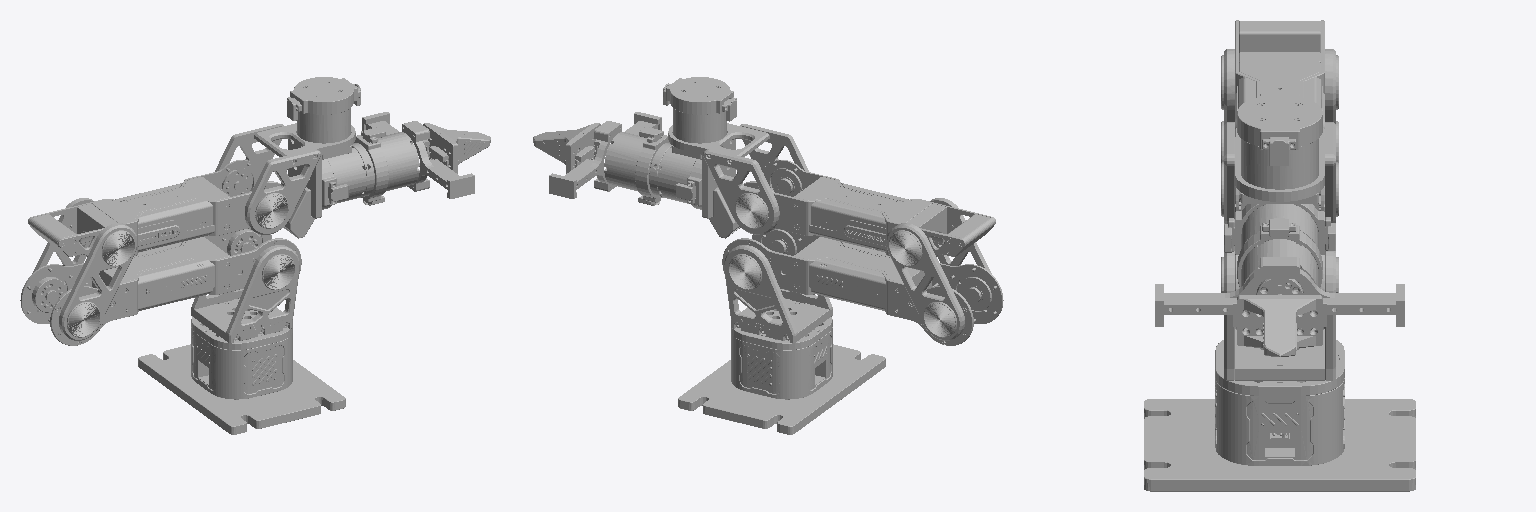
robot.urdf — b601_rs:
<?xml version="1.0" encoding="utf-8"?>
<!-- This URDF was automatically created by SolidWorks to URDF Exporter! Originally created by Stephen Brawner (brawner@gmail.com) 
     Commit Version: 1.6.0-4-g7f85cfe  Build Version: 1.6.7995.38578
     For more information, please see http://wiki.ros.org/sw_urdf_exporter -->
<robot
  name="b601_rs">
  <link
    name="base_link">
    <inertial>
      <origin
        xyz="2.87641888266442E-06 -0.000122302488725115 0.0243376121934547"
        rpy="0 0 0" />
      <mass
        value="1.1774" />
      <inertia
        ixx="0.00133040"
        ixy="0.00000001"
        ixz="0.00000000"
        iyy="0.00213119"
        iyz="0.00000000"
        izz="0.00275877" />
    </inertial>
    <visual>
      <origin
        xyz="0 0 0"
        rpy="0 0 0" />
      <geometry>
        <mesh
          filename="assets/base_link.STL" />
      </geometry>
      <material
        name="">
        <color
          rgba="0.752941176470588 0.752941176470588 0.752941176470588 1" />
      </material>
    </visual>
    <collision>
      <origin
        xyz="0 0 0"
        rpy="0 0 0" />
      <geometry>
        <mesh
          filename="assets/base_link.STL" />
      </geometry>
    </collision>
  </link>
  <link
    name="link1">
    <inertial>
      <origin
        xyz="0.00817652280320541 0.00122584211922395 0.0331419658967293"
        rpy="0 0 0" />
      <mass
        value="0.4655" />
      <inertia
        ixx="0.00025207"
        ixy="0.00000000"
        ixz="-0.00002832"
        iyy="0.00015464"
        iyz="0.00000000"
        izz="0.00023416" />
    </inertial>
    <visual>
      <origin
        xyz="0 0 0"
        rpy="0 0 0" />
      <geometry>
        <mesh
          filename="assets/link1.STL" />
      </geometry>
      <material
        name="">
        <color
          rgba="0.752941176470588 0.752941176470588 0.752941176470588 1" />
      </material>
    </visual>
    <collision>
      <origin
        xyz="0 0 0"
        rpy="0 0 0" />
      <geometry>
        <mesh
          filename="assets/link1.STL" />
      </geometry>
    </collision>
  </link>
  <joint
    name="joint1"
    type="revolute">
    <origin
      xyz="-0.00034283 -0.00098683 0.075"
      rpy="0 0 0" />
    <parent
      link="base_link" />
    <child
      link="link1" />
    <axis
      xyz="0 0 -1" />
    <limit
      lower="-2.8"
      upper="2.8"
      effort="36"
      velocity="50" />
  </joint>
  <link
    name="link2">
    <inertial>
      <origin
        xyz="-0.117864812717456 -0.00342226413942967 -0.0271551938501484"
        rpy="0 0 0" />
      <mass
        value="1.972" />
      <inertia
        ixx="0.00073374"
        ixy="-0.00000043"
        ixz="0.00000851"
        iyy="0.01255987"
        iyz="0.00000128"
        izz="0.01281387" />
    </inertial>
    <!-- <visual>
      <origin
        xyz="0 0 0"
        rpy="0 0 0" />
      <geometry>
        <mesh
          filename="assets/link2.STL" />
      </geometry>
      <material
        name="">
        <color
          rgba="0.752941176470588 0.752941176470588 0.752941176470588 1" />
      </material>
    </visual> -->
    <visual>
      <origin
        xyz="0 0 0"
        rpy="0 0 0" />
      <geometry>
        <mesh
          filename="assets/motor_2_3.STL" />
      </geometry>
      <material
        name="">
        <color
          rgba="0.752941176470588 0.752941176470588 0.752941176470588 1" />
      </material>
    </visual>
    <visual>
      <origin
        xyz="0 0 0"
        rpy="0 0 0" />
      <geometry>
        <mesh
          filename="assets/cnc2.STL" />
      </geometry>
      <material
        name="">
        <color
          rgba="0.752941176470588 0.752941176470588 0.752941176470588 1" />
      </material>
    </visual>
    <visual>
      <origin
        xyz="0 0 0"
        rpy="0 0 0" />
      <geometry>
        <mesh
          filename="assets/pla2_black.STL" />
      </geometry>
      <material
        name="">
        <color
          rgba="0.752941176470588 0.752941176470588 0.752941176470588 1" />
      </material>
    </visual>
    <visual>
      <origin
        xyz="0 0 0"
        rpy="0 0 0" />
      <geometry>
        <mesh
          filename="assets/pla2_green.STL" />
      </geometry>
      <material
        name="">
        <color
          rgba="0.752941176470588 0.752941176470588 0.752941176470588 1" />
      </material>
    </visual>
    <collision>
      <origin
        xyz="0 0 0"
        rpy="0 0 0" />
      <geometry>
        <mesh
          filename="assets/link2.STL" />
      </geometry>
    </collision>
  </link>
  <joint
    name="joint2"
    type="revolute">
    <origin
      xyz="0.020343 0.027237 0.07"
      rpy="-1.5708 0 0" />
    <parent
      link="link1" />
    <child
      link="link2" />
    <!-- Axis -Z: Damiao/Seeed motor +angle is opposite SolidWorks export +Z (fixes virtual up/down). -->
    <axis
      xyz="0 0 -1" />
    <!-- Seeed soft limit shoulder_lift ≈ (-170°, +1°); DM teleop is negative. -->
    <limit
      lower="-3.14"
      upper="0.05"
      effort="36"
      velocity="50" />
  </joint>
  <link
    name="link3">
    <inertial>
      <origin
        xyz="0.103427154487799 -0.0664137912104635 -0.0271068687716704"
        rpy="0 0 0" />
      <mass
        value="1.062" />
      <inertia
        ixx="0.00046807"
        ixy="-0.00003456"
        ixz="-0.00004260"
        iyy="0.00632695"
        iyz="0.00000006"
        izz="0.00648221" />
    </inertial>
    <!--  <visual>
      <origin
        xyz="0 0 0"
        rpy="0 0 0" />
      <geometry>
        <mesh
          filename="assets/link3.STL" />
      </geometry>
      <material
        name="">
        <color
          rgba="0.752941176470588 0.752941176470588 0.752941176470588 1" />
      </material>
    </visual> -->
    <visual>
      <origin
        xyz="0 0 0"
        rpy="0 0 0" />
      <geometry>
        <mesh
          filename="assets/cnc3.STL" />
      </geometry>
      <material
        name="">
        <color
          rgba="0.752941176470588 0.752941176470588 0.752941176470588 1" />
      </material>
    </visual>
    <visual>
      <origin
        xyz="0 0 0"
        rpy="0 0 0" />
      <geometry>
        <mesh
          filename="assets/motor_4.STL" />
      </geometry>
      <material
        name="">
        <color
          rgba="0.752941176470588 0.752941176470588 0.752941176470588 1" />
      </material>
    </visual>
    <visual>
      <origin
        xyz="0 0 0"
        rpy="0 0 0" />
      <geometry>
        <mesh
          filename="assets/pla3_black.STL" />
      </geometry>
      <material
        name="">
        <color
          rgba="0.752941176470588 0.752941176470588 0.752941176470588 1" />
      </material>
    </visual>
    <visual>
      <origin
        xyz="0 0 0"
        rpy="0 0 0" />
      <geometry>
        <mesh
          filename="assets/pla3_green.STL" />
      </geometry>
      <material
        name="">
        <color
          rgba="0.752941176470588 0.752941176470588 0.752941176470588 1" />
      </material>
    </visual>
    <collision>
      <origin
        xyz="0 0 0"
        rpy="0 0 0" />
      <geometry>
        <mesh
          filename="assets/link3.STL" />
      </geometry>
    </collision>
  </link>
  <joint
    name="joint3"
    type="revolute">
    <origin
      xyz="-0.236 0 0"
      rpy="0 0 0" />
    <parent
      link="link2" />
    <child
      link="link3" />
    <axis
      xyz="0 0 -1" />
    <!-- Symmetric: web applies B601_DISPLAY_SIGN joint3=-1 (motor neg → visual pos). -->
    <limit
      lower="-3.5"
      upper="3.5"
      effort="36"
      velocity="50" />
  </joint>
  <link
    name="link4">
    <inertial>
      <origin
        xyz="0.0475544540775559 -0.0441113470158517 -0.0314111924918381"
        rpy="0 0 0" />
      <mass
        value="0.66" />
      <inertia
        ixx="0.00045986"
        ixy="0.00024219"
        ixz="-0.0"
        iyy="0.00075258"
        iyz="-0.0"
        izz="0.00066742" />
    </inertial>
    <!-- <visual>
      <origin
        xyz="0 0 0"
        rpy="0 0 0" />
      <geometry>
        <mesh
          filename="assets/link4.STL" />
      </geometry>
      <material
        name="">
        <color
          rgba="0.752941176470588 0.752941176470588 0.752941176470588 1" />
      </material>
    </visual> -->
    <visual>
      <origin
        xyz="0 0 0"
        rpy="0 0 0" />
      <geometry>
        <mesh
          filename="assets/motor_5.STL" />
      </geometry>
      <material
        name="">
        <color
          rgba="0.752941176470588 0.752941176470588 0.752941176470588 1" />
      </material>
    </visual>
    <visual>
      <origin
        xyz="0 0 0"
        rpy="0 0 0" />
      <geometry>
        <mesh
          filename="assets/cnc4.STL" />
      </geometry>
      <material
        name="">
        <color
          rgba="0.752941176470588 0.752941176470588 0.752941176470588 1" />
      </material>
    </visual>
    <collision>
      <origin
        xyz="0 0 0"
        rpy="0 0 0" />
      <geometry>
        <mesh
          filename="assets/link4.STL" />
      </geometry>
    </collision>
  </link>
  <joint
    name="joint4"
    type="revolute">
    <origin
      xyz="0.228 -0.072746 0.0045"
      rpy="0 0 0" />
    <parent
      link="link3" />
    <child
      link="link4" />
    <axis
      xyz="0 0 -1" />
    <limit
      lower="-1.57"
      upper="1.57"
      effort="14"
      velocity="40" />
  </joint>
  <link
    name="link5">
    <inertial>
      <origin
        xyz="0.0114400622356175 4.7907739316217E-06 0.0380487481818926"
        rpy="0 0 0" />
      <mass
        value="0.150120457182895" />
      <inertia
        ixx="7.34238025911107E-05"
        ixy="1.35700947009798E-08"
        ixz="-8.58146433770359E-07"
        iyy="5.5153884237714E-05"
        iyz="-1.32742144977931E-08"
        izz="5.29920095811017E-05" />
    </inertial>
    <!-- <visual>
      <origin
        xyz="0 0 0"
        rpy="0 0 0" />
      <geometry>
        <mesh
          filename="assets/link5.STL" />
      </geometry>
      <material
        name="">
        <color
          rgba="0.752941176470588 0.752941176470588 0.752941176470588 1" />
      </material>
    </visual> -->
    <visual>
      <origin
        xyz="0 0 0"
        rpy="0 0 0" />
      <geometry>
        <mesh
          filename="assets/motor_6.STL" />
      </geometry>
      <material
        name="">
        <color
          rgba="0.752941176470588 0.752941176470588 0.752941176470588 1" />
      </material>
    </visual>
    <visual>
      <origin
        xyz="0 0 0"
        rpy="0 0 0" />
      <geometry>
        <mesh
          filename="assets/cnc5.STL" />
      </geometry>
      <material
        name="">
        <color
          rgba="0.752941176470588 0.752941176470588 0.752941176470588 1" />
      </material>
    </visual>
    <visual>
      <origin
        xyz="0 0 0"
        rpy="0 0 0" />
      <geometry>
        <mesh
          filename="assets/pla5_green.STL" />
      </geometry>
      <material
        name="">
        <color
          rgba="0.752941176470588 0.752941176470588 0.752941176470588 1" />
      </material>
    </visual>
    <collision>
      <origin
        xyz="0 0 0"
        rpy="0 0 0" />
      <geometry>
        <mesh
          filename="assets/link5.STL" />
      </geometry>
    </collision>
  </link>
  <joint
    name="joint5"
    type="revolute">
    <origin
      xyz="0.087 -0.048 -0.03075"
      rpy="-1.5708 0 0" />
    <parent
      link="link4" />
    <child
      link="link5" />
    <axis
      xyz="0 0 -1" />
    <limit
      lower="-1.57"
      upper="1.57"
      effort="14"
      velocity="40" />
  </joint>
  <link
    name="link6">
    <inertial>
      <origin
        xyz="1.80196022567525E-05 2.48334592051007E-08 0.00434805764057547"
        rpy="0 0 0" />
      <mass
        value="0.03" />
      <inertia
        ixx="4.42273835852359E-06"
        ixy="3.16758463739482E-12"
        ixz="1.51852818442002E-10"
        iyy="4.37185522080034E-06"
        iyz="-2.21864017603015E-12"
        izz="8.54299378942051E-06" />
    </inertial>
    <visual>
      <origin
        xyz="0 0 0"
        rpy="0 0 0" />
      <geometry>
        <mesh
          filename="assets/link6.STL" />
      </geometry>
      <material
        name="">
        <color
          rgba="0.752941176470588 0.752941176470588 0.752941176470588 1" />
      </material>
    </visual>
    <collision>
      <origin
        xyz="0 0 0"
        rpy="0 0 0" />
      <geometry>
        <mesh
          filename="assets/link6.STL" />
      </geometry>
    </collision>
  </link>
  <joint
    name="joint6"
    type="revolute">
    <origin
      xyz="0.0365 0 0.048"
      rpy="0 1.5708 0" />
    <parent
      link="link5" />
    <child
      link="link6" />
    <axis
      xyz="0 0 -1" />
    <limit
      lower="-3.14"
      upper="3.14"
      effort="14"
      velocity="40" />
  </joint>
  <link
    name="gripper_end">
    <inertial>
      <origin
        xyz="-0.112751692515958 0.000128443070436966 -5.72602449749882E-06"
        rpy="0 0 0" />
      <mass
        value="0.65" />
      <inertia
        ixx="0.00037354"
        ixy="-0.00000011"
        ixz="0.00000050"
        iyy="0.00015830"
        iyz="0.00000348"
        izz="0.00045353" />
    </inertial>
    <!-- <visual>
      <origin
        xyz="0 0 0"
        rpy="0 0 0" />
      <geometry>
        <mesh
          filename="assets/gripper_end.STL" />
      </geometry>
      <material
        name="">
        <color
          rgba="0.752941176470588 0.752941176470588 0.752941176470588 1" />
      </material>
    </visual> -->
    <visual>
      <origin
        xyz="0 0 0"
        rpy="0 0 0" />
      <geometry>
        <mesh
          filename="assets/pla7_green.STL" />
      </geometry>
      <material
        name="">
        <color
          rgba="0.752941176470588 0.752941176470588 0.752941176470588 1" />
      </material>
    </visual>
    <visual>
      <origin
        xyz="0 0 0"
        rpy="0 0 0" />
      <geometry>
        <mesh
          filename="assets/cnc7.STL" />
      </geometry>
      <material
        name="">
        <color
          rgba="0.752941176470588 0.752941176470588 0.752941176470588 1" />
      </material>
    </visual>
    <visual>
      <origin
        xyz="0 0 0"
        rpy="0 0 0" />
      <geometry>
        <mesh
          filename="assets/motor_7.STL" />
      </geometry>
      <material
        name="">
        <color
          rgba="0.752941176470588 0.752941176470588 0.752941176470588 1" />
      </material>
    </visual>
    <collision>
      <origin
        xyz="0 0 0"
        rpy="0 0 0" />
      <geometry>
        <mesh
          filename="assets/gripper_end.STL" />
      </geometry>
    </collision>
  </link>
  <joint
    name="j_gripper_end"
    type="fixed">
    <origin
      xyz="0 0 0.16621"
      rpy="3.1416 -1.5708 0" />
    <parent
      link="link6" />
    <child
      link="gripper_end" />
    <axis
      xyz="0 0 0" />
  </joint>
  <link
    name="gripper_left">
    <inertial>
      <origin
        xyz="-0.00218008703135955 0.0187090355934181 0.00932188568692145"
        rpy="0 0 0" />
      <mass
        value="0.0752" />
      <inertia
        ixx="1.09877964176176E-05"
        ixy="0"
        ixz="0"
        iyy="9.50146036720166E-06"
        iyz="0"
        izz="9.30779991911125E-06" />
    </inertial>
    <!-- <visual>
      <origin
        xyz="0 0 0"
        rpy="0 0 0" />
      <geometry>
        <mesh
          filename="assets/gripper_left.STL" />
      </geometry>
      <material
        name="">
        <color
          rgba="0.752941176470588 0.752941176470588 0.752941176470588 1" />
      </material>
    </visual> -->
    <visual>
      <origin
        xyz="0 0 0"
        rpy="0 0 0" />
      <geometry>
        <mesh
          filename="assets/pla_left.STL" />
      </geometry>
      <material
        name="">
        <color
          rgba="0.752941176470588 0.752941176470588 0.752941176470588 1" />
      </material>
    </visual>
    <visual>
      <origin
        xyz="0 0 0"
        rpy="0 0 0" />
      <geometry>
        <mesh
          filename="assets/cnc_left.STL" />
      </geometry>
      <material
        name="">
        <color
          rgba="0.752941176470588 0.752941176470588 0.752941176470588 1" />
      </material>
    </visual>
    <collision>
      <origin
        xyz="0 0 0"
        rpy="0 0 0" />
      <geometry>
        <mesh
          filename="assets/gripper_left.STL" />
      </geometry>
    </collision>
  </link>
  <joint
    name="gripper_joint1"
    type="prismatic">
    <origin
      xyz="-0.041939 -7.3385E-05 0"
      rpy="1.5708 -1.5708 0" />
    <parent
      link="gripper_end" />
    <child
      link="gripper_left" />
    <axis
      xyz="0 0 1" />
    <limit
      lower="0"
      upper="0.05"
      effort="500"
      velocity="10" />
  </joint>
  <link
    name="gripper_right">
    <inertial>
      <origin
        xyz="0.00218008703135955 -0.018709035593418 0.00932188568692151"
        rpy="0 0 0" />
      <mass
        value="0.0752" />
      <inertia
        ixx="1.09877964176176E-05"
        ixy="0"
        ixz="0"
        iyy="9.50146036720166E-06"
        iyz="0"
        izz="9.30779991911125E-06" />
    </inertial>
    <!-- <visual>
      <origin
        xyz="0 0 0"
        rpy="0 0 0" />
      <geometry>
        <mesh
          filename="assets/gripper_right.STL" />
      </geometry>
      <material
        name="">
        <color
          rgba="0.752941176470588 0.752941176470588 0.752941176470588 1" />
      </material>
    </visual> -->
    <visual>
      <origin
        xyz="0 0 0"
        rpy="0 0 0" />
      <geometry>
        <mesh
          filename="assets/pla_right.STL" />
      </geometry>
      <material
        name="">
        <color
          rgba="0.752941176470588 0.752941176470588 0.752941176470588 1" />
      </material>
    </visual>
    <visual>
      <origin
        xyz="0 0 0"
        rpy="0 0 0" />
      <geometry>
        <mesh
          filename="assets/cnc_right.STL" />
      </geometry>
      <material
        name="">
        <color
          rgba="0.752941176470588 0.752941176470588 0.752941176470588 1" />
      </material>
    </visual>
    <collision>
      <origin
        xyz="0 0 0"
        rpy="0 0 0" />
      <geometry>
        <mesh
          filename="assets/gripper_right.STL" />
      </geometry>
    </collision>
  </link>
  <joint
    name="gripper_joint2"
    type="prismatic">
    <origin
      xyz="-0.041939 7.3385E-05 0"
      rpy="-1.5708 -1.5708 0" />
    <parent
      link="gripper_end" />
    <child
      link="gripper_right" />
    <axis
      xyz="0 0 1" />
    <limit
      lower="0"
      upper="0.0715"
      effort="500"
      velocity="10" />
  </joint>
</robot>

--- Render facts (derived) ---
Views: 3 orthographic renders of the robot side by side, from view 1: azimuth 30°, elevation 25°; view 2: azimuth 150°, elevation 25°; view 3: azimuth 270°, elevation 25°.
Model b601_rs with 10 links and 9 joints (6 revolute, 2 prismatic, 1 fixed), rooted at base_link, posed all joints at 0.
Visible links, largest first — view 1: link3, base_link, link4, link2, link1, gripper_end, link5, gripper_left; view 2: link3, base_link, link4, link2, link1, gripper_end, link5, gripper_right; view 3: base_link, link4, link3, gripper_end, link1, link5, gripper_right, gripper_left.
Link boxes in pixels (x1,y1,x2,y2): link3: (28, 160, 279, 340); base_link: (138, 317, 345, 434); link4: (215, 77, 360, 234); link2: (20, 232, 301, 345); link1: (191, 229, 299, 342); gripper_end: (354, 112, 474, 205); link5: (283, 139, 366, 238); gripper_left: (429, 133, 490, 173); link3: (744, 160, 995, 340); base_link: (678, 317, 885, 434); link4: (663, 77, 808, 234); link2: (722, 232, 1003, 345); link1: (724, 229, 832, 342); gripper_end: (549, 112, 669, 205); link5: (657, 139, 740, 238); gripper_right: (533, 133, 594, 173); base_link: (1144, 340, 1415, 491); link4: (1221, 94, 1338, 224); link3: (1221, 20, 1338, 211); gripper_end: (1155, 218, 1404, 349); link1: (1221, 250, 1338, 380); link5: (1224, 193, 1335, 254); gripper_right: (1280, 295, 1326, 356); gripper_left: (1233, 295, 1279, 356).
Size in the robot's own frame: 0.5512 by 0.2 by 0.3207 metres.
Meshes: 23 distinct files referenced, 16 mesh visuals loaded (16 binary STL); not drawn: 7 (reference not matched to a file when rendering).
